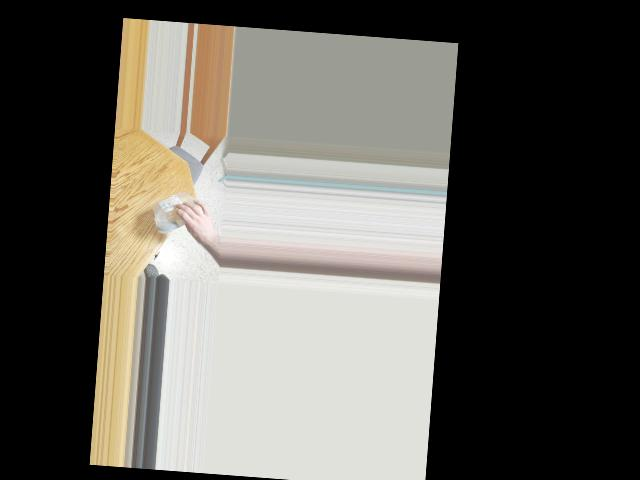cheese: (155, 192, 197, 223)
